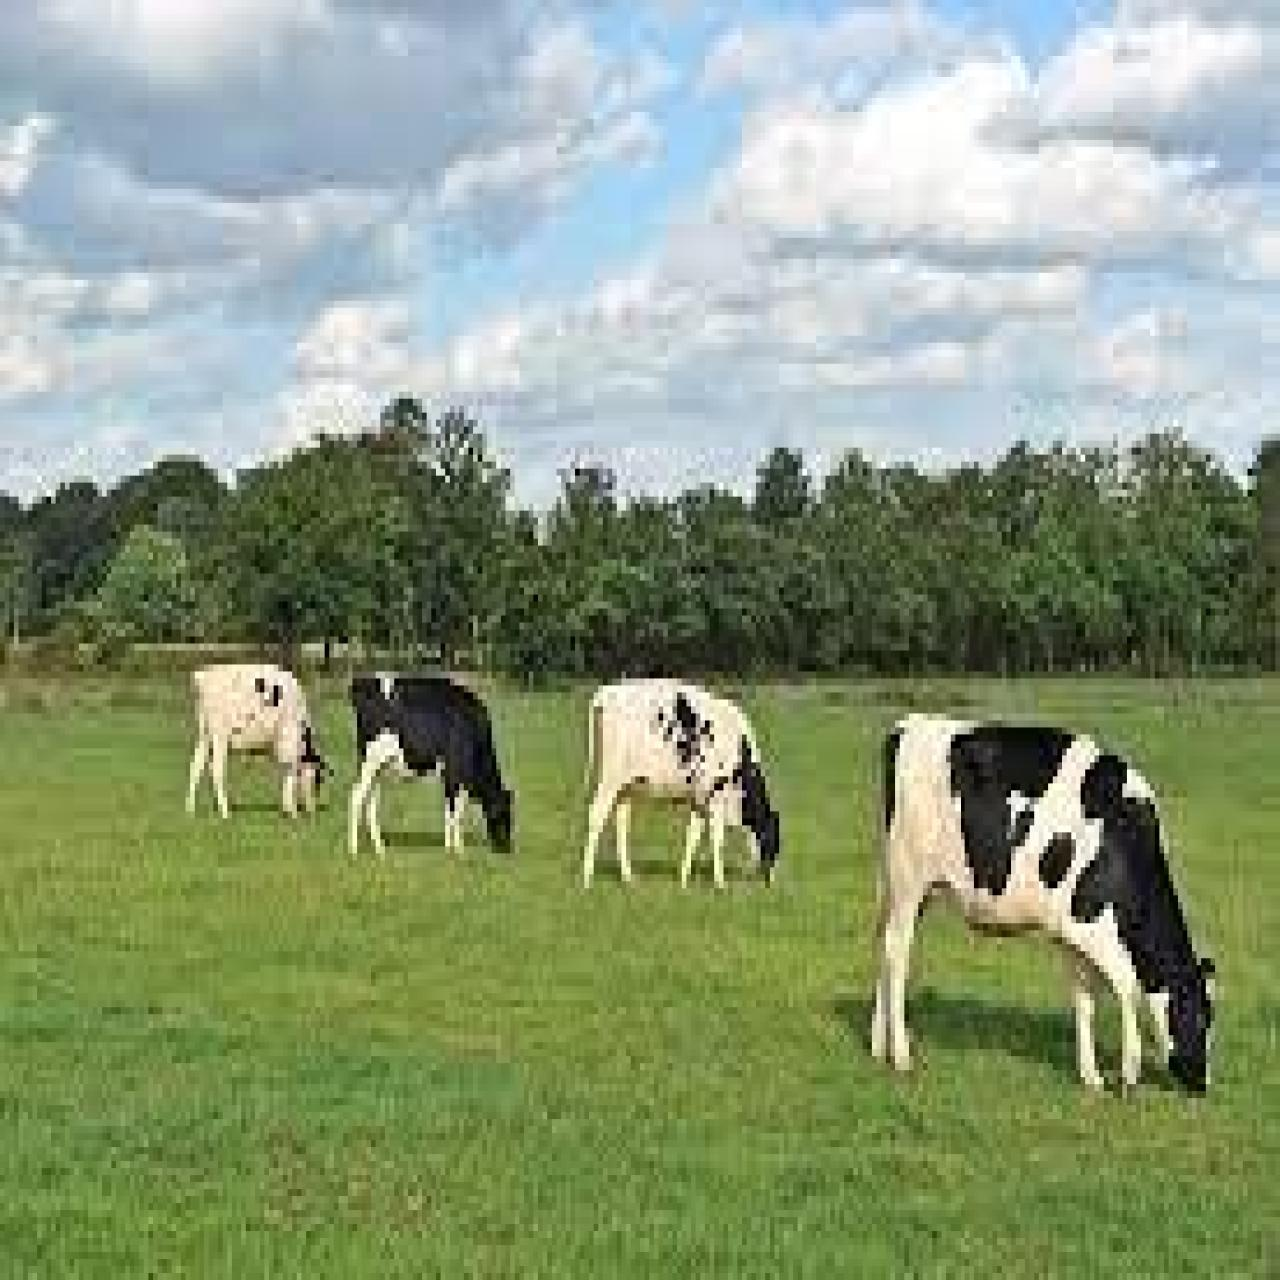cow: (867, 714, 1216, 1098), (581, 686, 782, 903), (348, 658, 519, 867), (192, 665, 322, 825)
